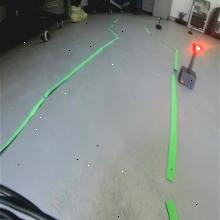red: (191, 41, 203, 54)
